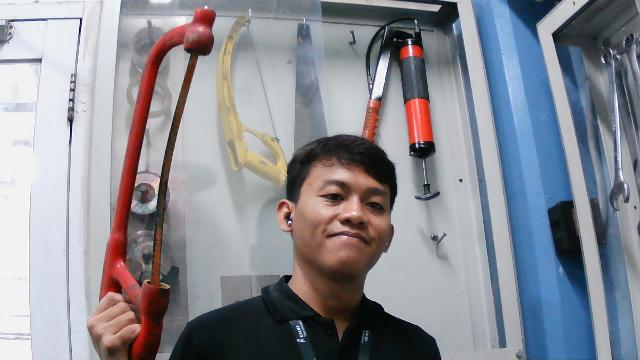gergaji_besi: (92, 5, 219, 360)
